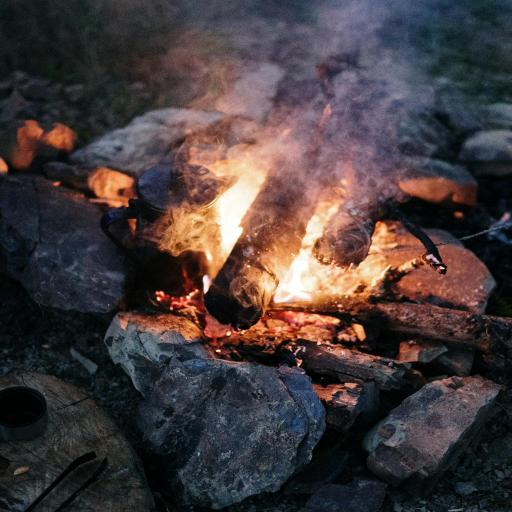campfire: (62, 96, 468, 382)
